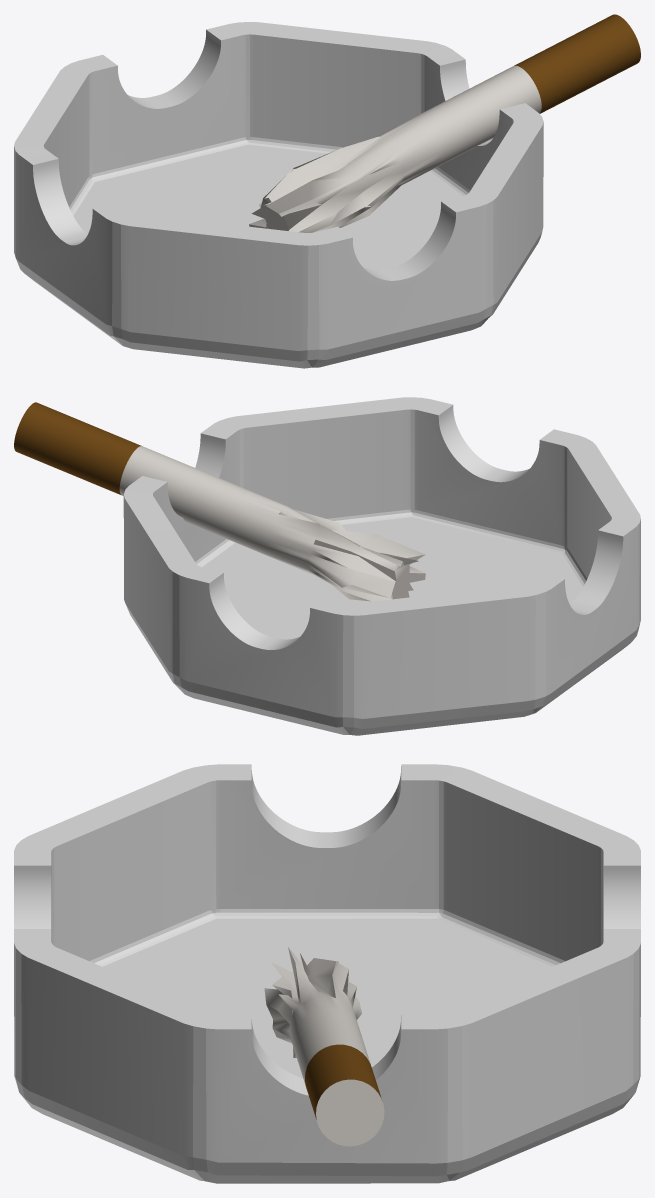
File: ashtray.fbx
3 renders of one model, top to bottom at view 1: azimuth 30°, elevation 25°; view 2: azimuth 150°, elevation 25°; view 3: azimuth 270°, elevation 25°, orthographic. The views are drawn at different scales.
Parts seen in each view (by area): view 1: asbak, udud; view 2: asbak, udud; view 3: asbak, udud.
Boxes of the visible parts, left/top/right/bottom form: asbak: left=14, top=22, right=543, bottom=368; udud: left=249, top=14, right=640, bottom=232; asbak: left=123, top=397, right=640, bottom=735; udud: left=14, top=402, right=425, bottom=601; asbak: left=14, top=764, right=640, bottom=1183; udud: left=264, top=947, right=384, bottom=1146.
Bounding box in the file's own units: 2190 × 580 × 1643.
